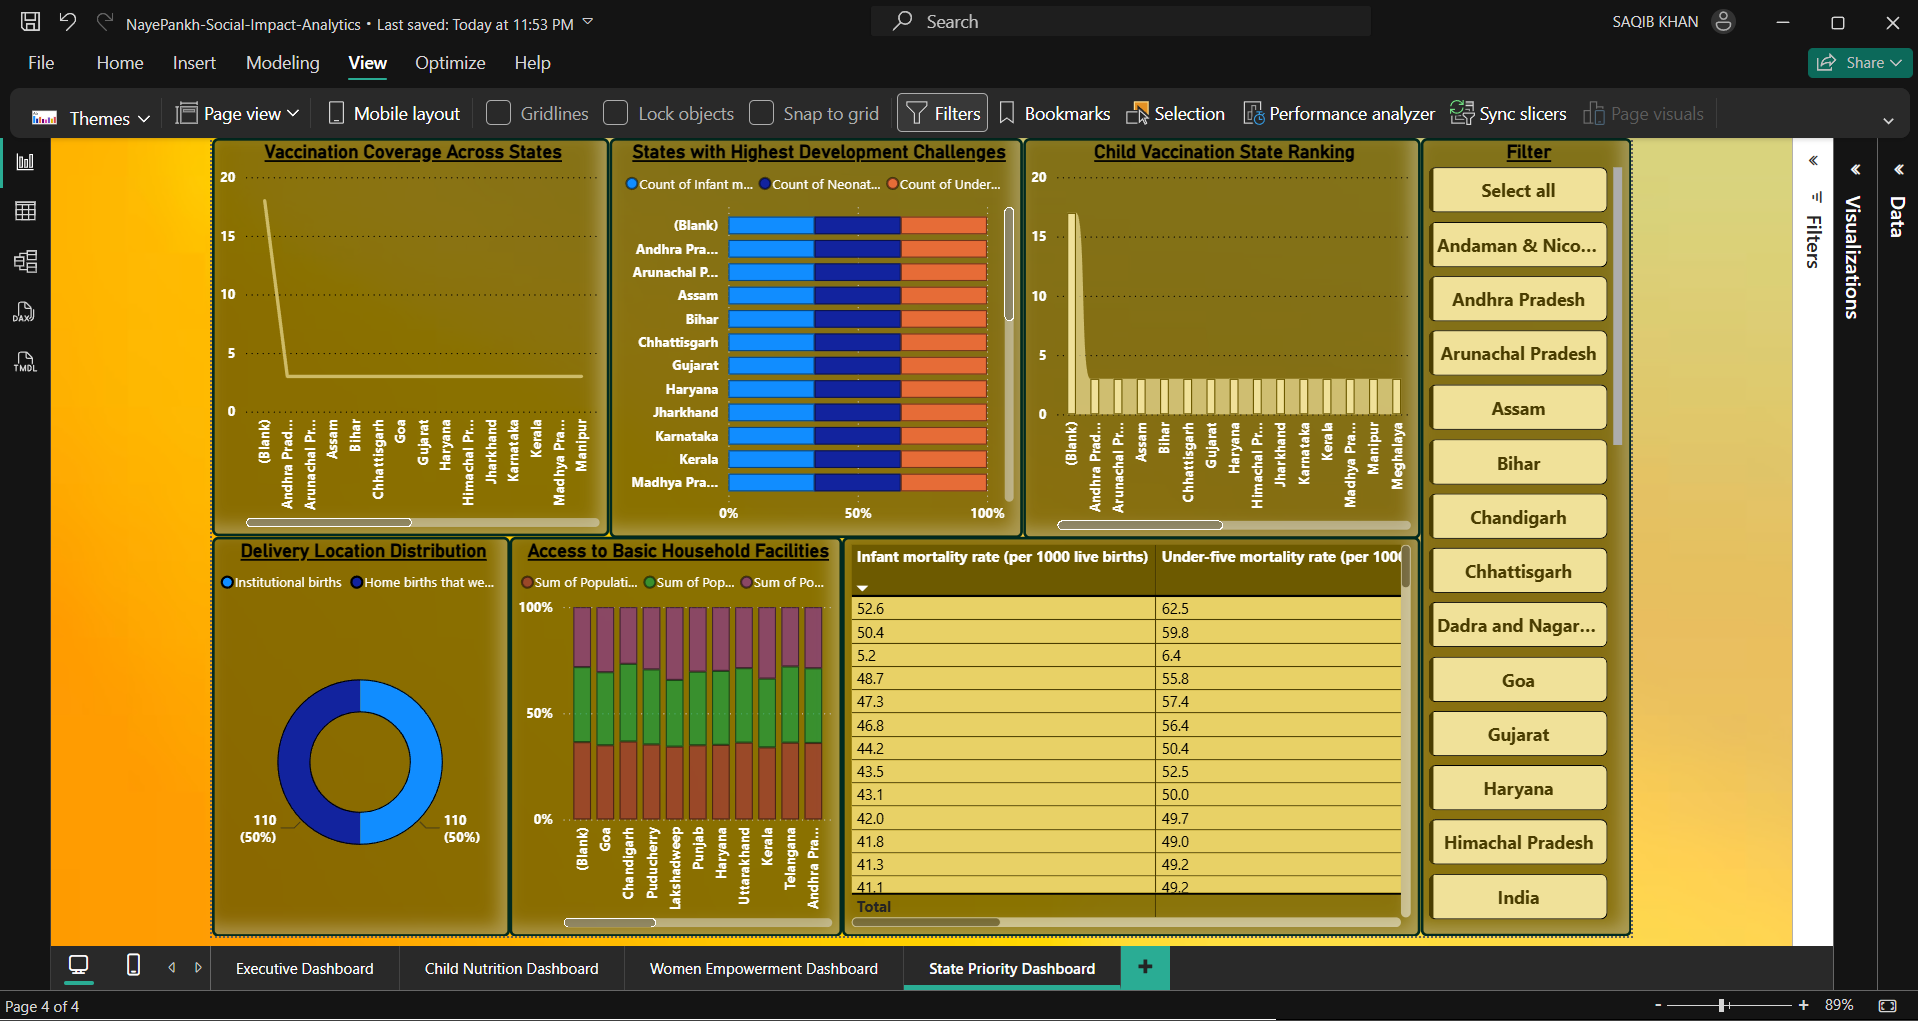

Layout of this report page (visuals, bound fields, positions):
{"tool":"powerbi","page":{"name":"State Priority Dashboard","canvas":[1280,720],"ordinal":3},"visuals":[{"type":"hundredPercentStackedBarChart","title":"States with Highest Development Challenges","fields":{"Category":["Poshan.State/UT"],"Y":["CountNonNull(NFHS5.Infant mortality rate (per 1000 live births))","CountNonNull(NFHS5.Neonatal mortality rate (per 1000 live births))","CountNonNull(NFHS5.Under-five mortality rate (per 1000 live births))"]},"box":[358.3,0,373.2,360.7],"z":0},{"type":"lineChart","title":"Vaccination Coverage Across States","fields":{"Category":["Poshan.State/UT"],"Y":["CountNonNull(NFHS5.Children age 12-23 months fully vaccinated based on information from either vaccination card or mothe"]},"box":[0,0,358.3,359.5],"z":1000},{"type":"donutChart","title":"Delivery Location Distribution","fields":{"Y":["CountNonNull(NFHS5.Institutional births (in the 5 years before the survey) (%))","CountNonNull(NFHS5.Home births that were conducted by skilled health personnel  (in the 5 years before the survey)10 (%)"]},"box":[0,359.5,268.7,360.7],"z":2000},{"type":"hundredPercentStackedColumnChart","title":"Access to Basic Household Facilities","fields":{"Category":["Poshan.State/UT"],"Y":["Sum(NFHS5.Population living in households with electricity (%))","Sum(NFHS5.Population living in households with an improved drinking-water source1 (%))","Sum(NFHS5.Population living in households that use an improved sanitation facility2 (%))"]},"box":[268.7,359.5,299.8,360.7],"z":3000},{"type":"ribbonChart","title":"Child Vaccination State Ranking","fields":{"Category":["Poshan.State/UT"],"Y":["CountNonNull(NFHS5.Children age 12-23 months fully vaccinated based on information from vaccination card only12 (%))"]},"box":[731.4,0,358.3,362],"z":4000},{"type":"tableEx","fields":{"Values":["NFHS5.Infant mortality rate (per 1000 live births)","NFHS5.Under-five mortality rate (per 1000 live births)","NFHS5.Institutional births (in the 5 years before the survey) (%)","Sum(NFHS5.Population living in households with electricity (%))","Sum(NFHS5.Population living in households with an improved drinking-water source1 (%))"]},"box":[568.5,359.5,521.2,360.7],"z":5000},{"type":"advancedSlicerVisual","fields":{"Values":["NFHS5.States/UTs"]},"box":[1089.7,0,190.3,720.3],"z":6000}]}

Visuals, with their boxes on the page's 1280x720 design canvas (x1, y1, x2, y2). These are canvas units, not pixel positions in the 1918x1021 screenshot, which may show the page scaled, cropped or inside an application window:
"States with Highest Development Challenges" hundredPercentStackedBarChart: crop(358, 0, 732, 361)
"Vaccination Coverage Across States" lineChart: crop(0, 0, 358, 360)
"Delivery Location Distribution" donutChart: crop(0, 360, 269, 720)
"Access to Basic Household Facilities" hundredPercentStackedColumnChart: crop(269, 360, 568, 720)
"Child Vaccination State Ranking" ribbonChart: crop(731, 0, 1090, 362)
tableEx - NFHS5.Infant mortality rate (per 1000 live births) x NFHS5.Under-five mortality rate (per 1000 live births): crop(568, 360, 1090, 720)
advancedSlicerVisual - NFHS5.States/UTs: crop(1090, 0, 1280, 720)
